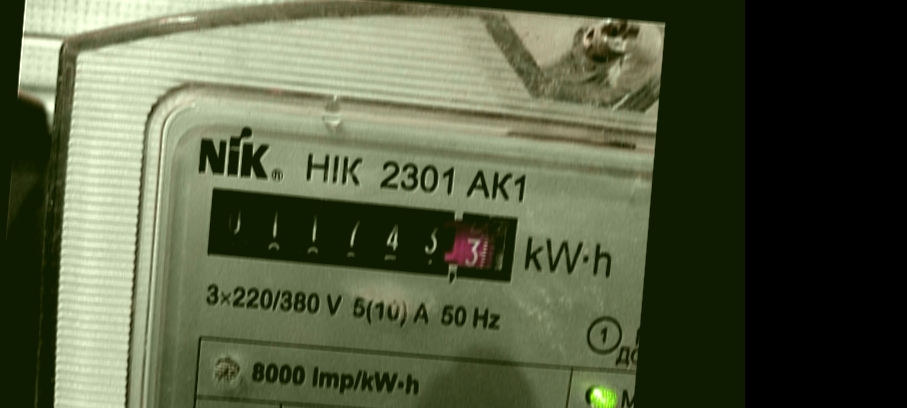0: (225, 202, 247, 239)
1: (308, 210, 326, 245), (271, 207, 284, 240)
3: (421, 222, 443, 259), (464, 238, 485, 272)
4: (384, 219, 404, 254)
7: (346, 215, 366, 250)
screen: (193, 176, 534, 298)
